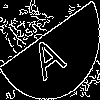A: (25, 25, 68, 82)
